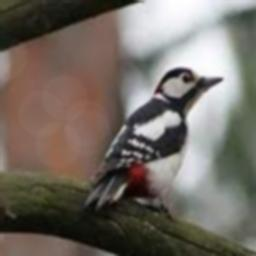Woodpecker: (84, 67, 225, 218)
